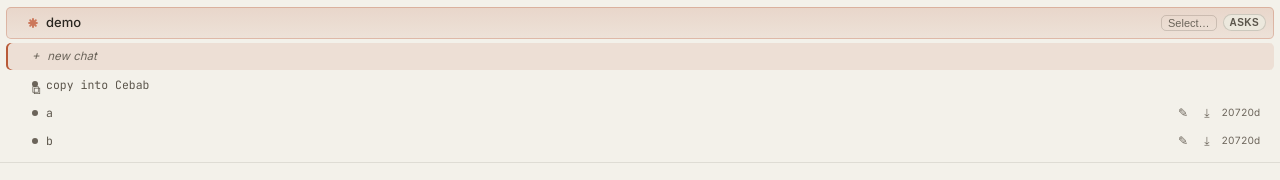
Test: ProjectList — entering select mode › shows checkboxes, the action bar, and hides the new-chat row
Expected: the list item with class "new" is shown, [6, 42, 1274, 70]
Click the button with class "session-select-toggle" at coordinates (1189, 23), box [1161, 15, 1217, 31]
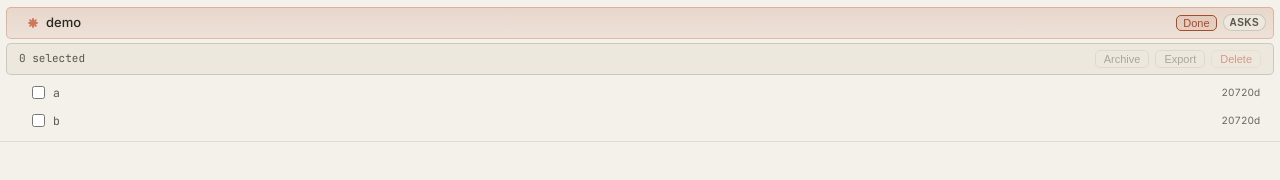
Now the list item with class "bulk-action-bar" is shown, box [6, 42, 1274, 74]
Now the number of checkboxes with class "session-select-checkbox" is 2, box [32, 86, 45, 99]; [32, 114, 45, 127]
Now the button with class "new" is gone
